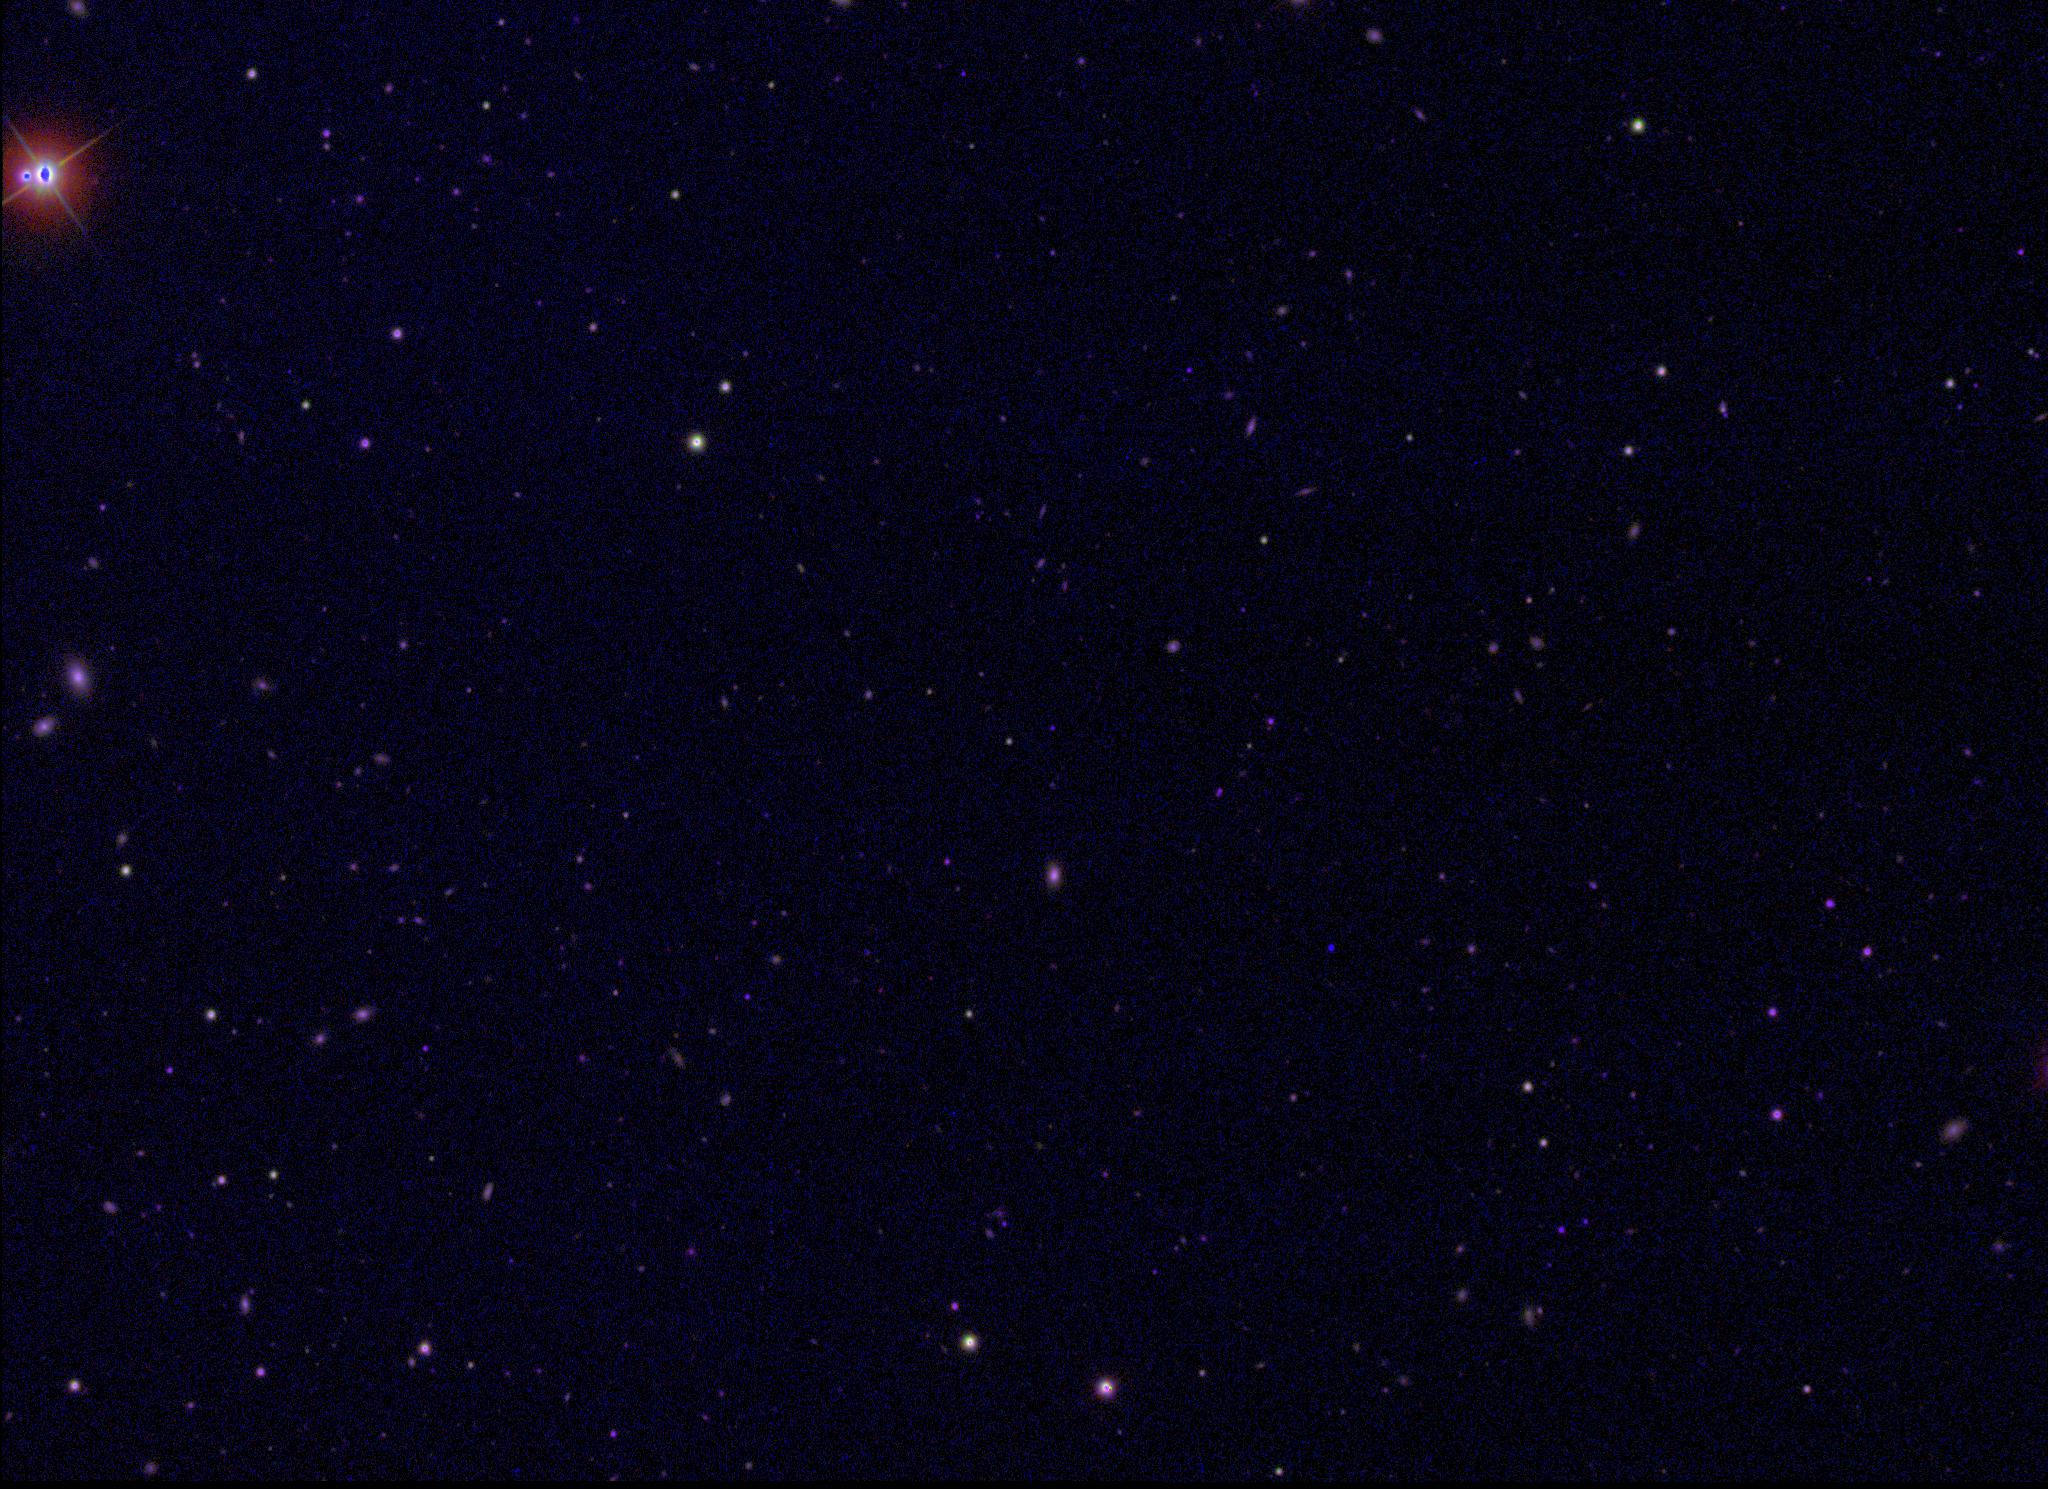L: (1325, 940, 1337, 954)
